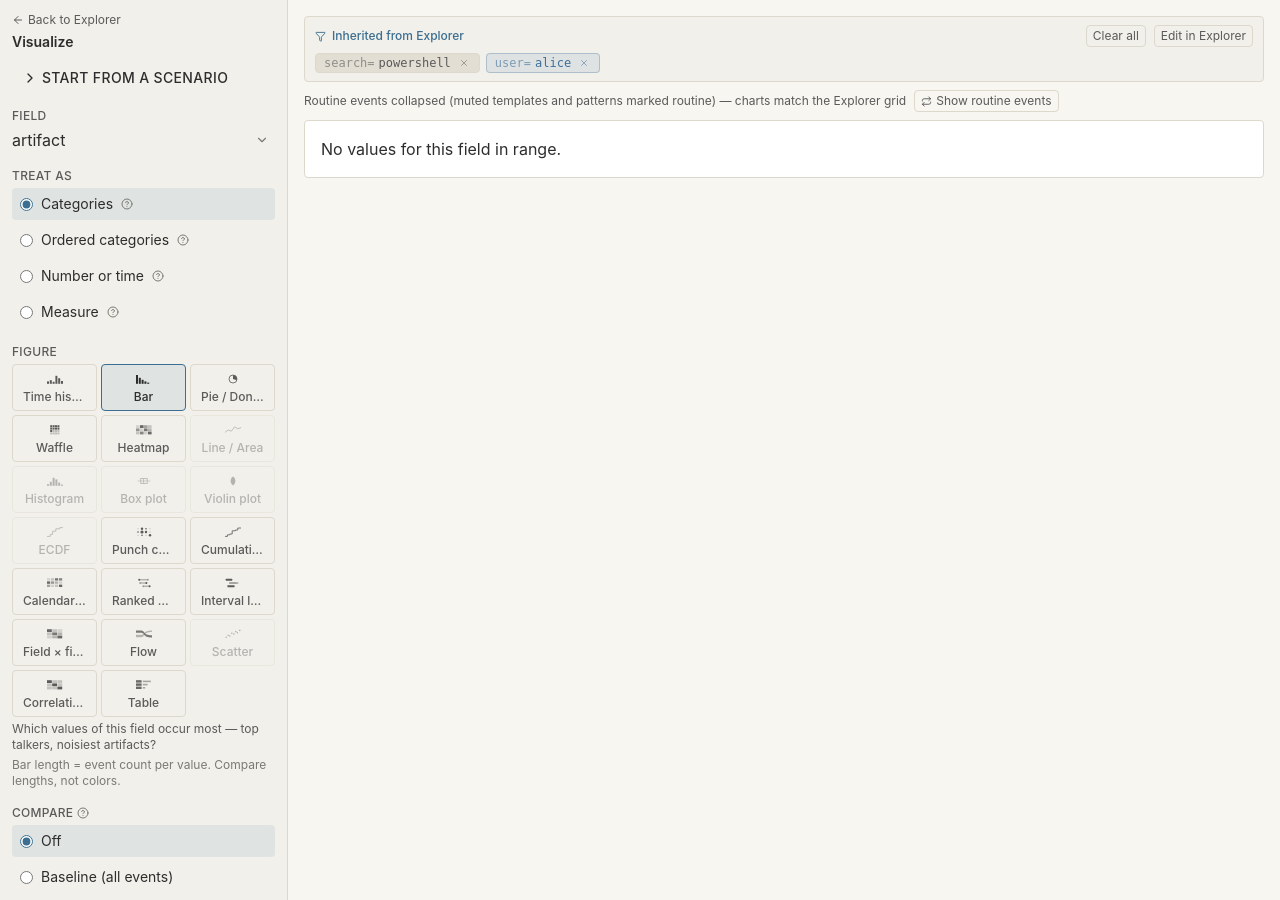
VisualizePage inherited filters › clears every filter at once
This screenshot has width=1280, height=900.
Click the button "Clear all".
click(1116, 36)  # box [1086,25,1146,47]
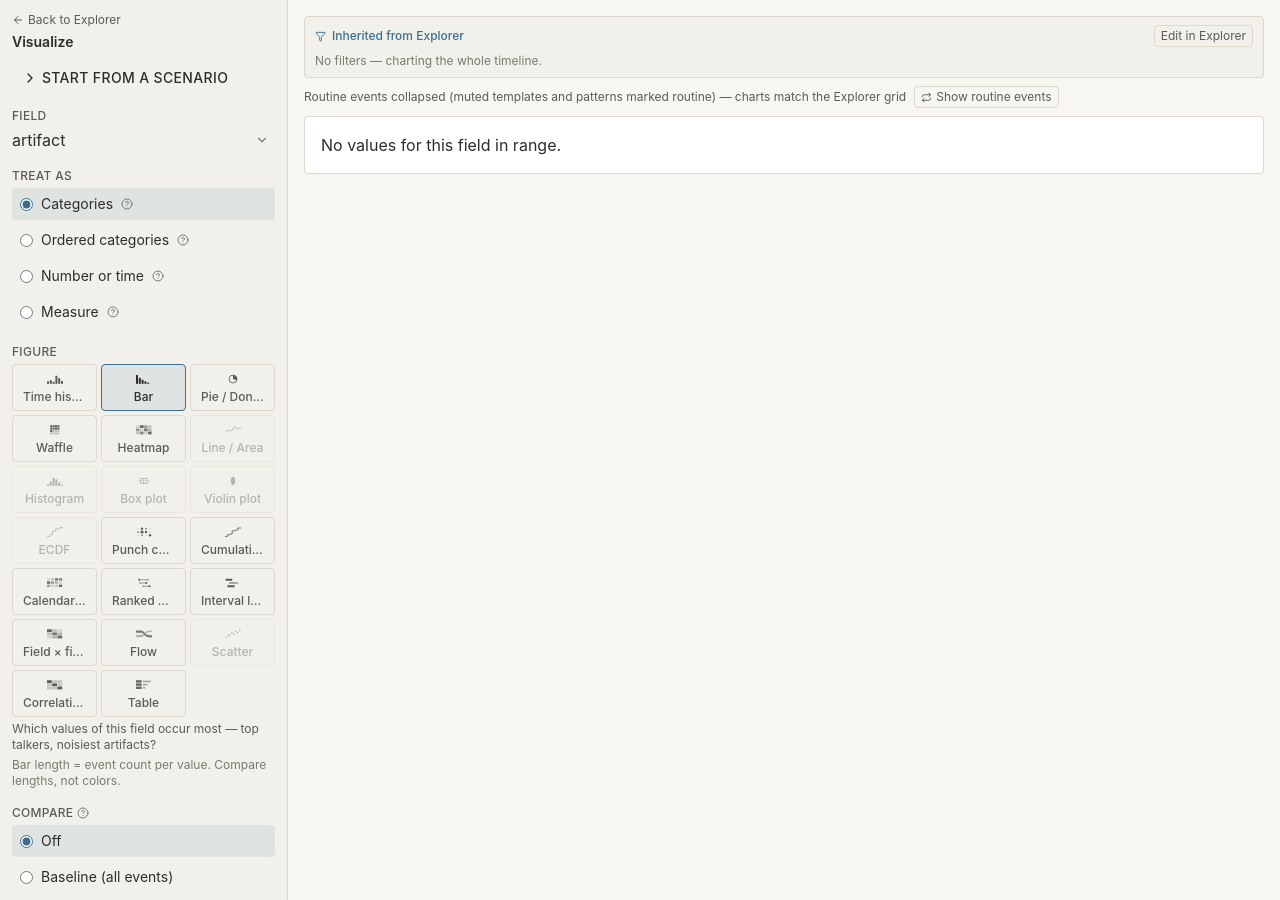
Expected: the text "No filters — charting the whole timeline." is shown, [315,53,542,68]
